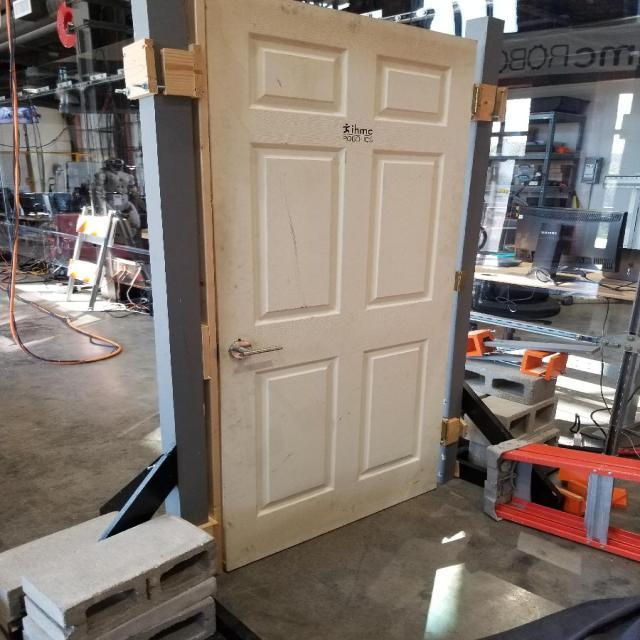door: (196, 0, 479, 579), (223, 338, 288, 367)
